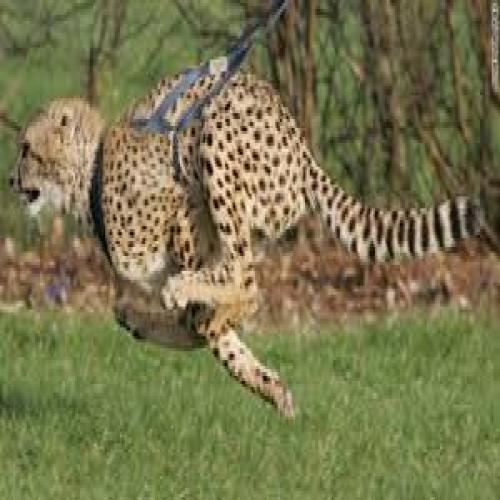cheetah-endangered: (7, 60, 485, 421)
